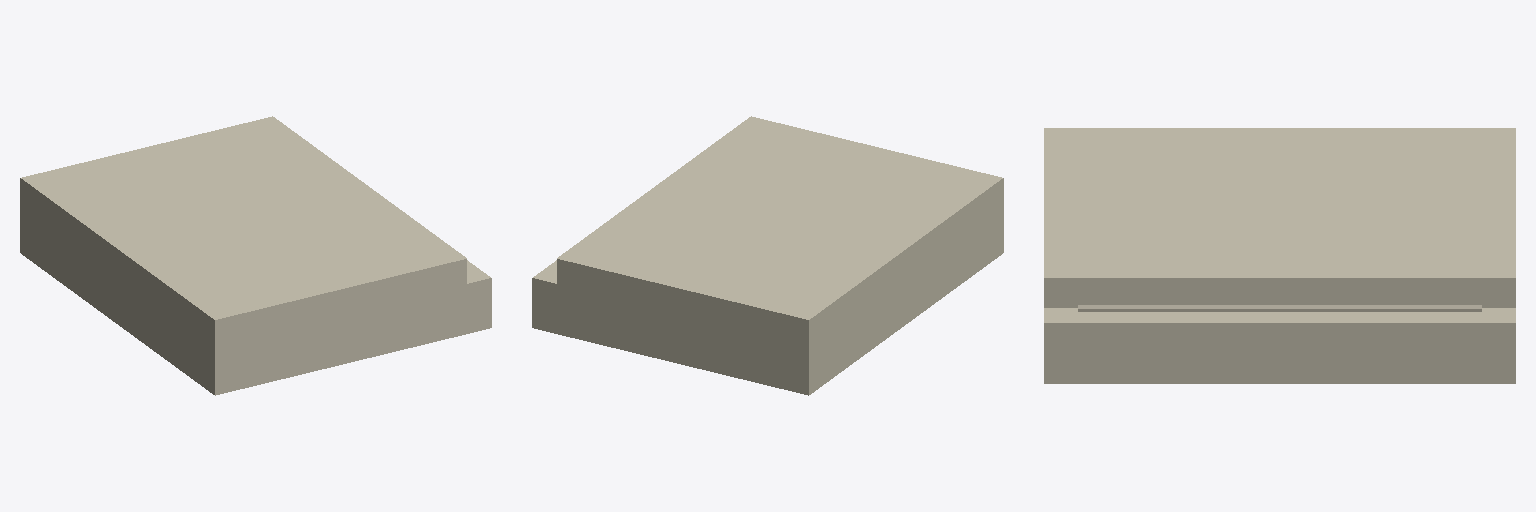
robot.urdf — laptop:
<?xml version="1.0"?>
<robot name="laptop">
  <!-- Base / keyboard part sitting on table -->
  <link name="base_link">
    <visual>
      <origin xyz="0 0 0" rpy="0 0 0"/>
      <geometry>
        <box size="0.23 0.28 0.04"/>
      </geometry>
      <material name="beige">
        <color rgba="0.82 0.80 0.73 1"/>
      </material>
    </visual>
    <visual>
      <origin xyz="0.01 0 0.021" rpy="0 0 0"/>
      <geometry>
        <box size="0.18 0.24 0.002"/>
      </geometry>
      <material name="keyboard_grey">
        <color rgba="0.75 0.73 0.67 1"/>
      </material>
    </visual>
    <collision>
      <origin xyz="0 0 0" rpy="0 0 0"/>
      <geometry>
        <box size="0.23 0.28 0.04"/>
      </geometry>
    </collision>
    <inertial>
      <origin xyz="0 0 0" rpy="0 0 0"/>
      <mass value="1.8"/>
      <inertia ixx="0.012" ixy="0" ixz="0" iyy="0.0081" iyz="0" izz="0.0197"/>
    </inertial>
  </link>

  <!-- Lid / display part -->
  <link name="lid_link">
    <visual>
      <origin xyz="0.105 0 0" rpy="0 0 0"/>
      <geometry>
        <box size="0.21 0.28 0.02"/>
      </geometry>
      <material name="beige_lid">
        <color rgba="0.82 0.80 0.73 1"/>
      </material>
    </visual>
    <visual>
      <origin xyz="0.105 0 -0.011" rpy="0 0 0"/>
      <geometry>
        <box size="0.18 0.24 0.002"/>
      </geometry>
      <material name="screen_black">
        <color rgba="0.02 0.02 0.02 1"/>
      </material>
    </visual>
    <collision>
      <origin xyz="0.105 0 0" rpy="0 0 0"/>
      <geometry>
        <box size="0.21 0.28 0.02"/>
      </geometry>
    </collision>
    <inertial>
      <origin xyz="0.105 0 0" rpy="0 0 0"/>
      <mass value="0.7"/>
      <inertia ixx="0.0046" ixy="0" ixz="0" iyy="0.0026" iyz="0" izz="0.0071"/>
    </inertial>
  </link>

  <!-- Hinge at rear edge of base. 0 = closed flat, ~1.57 = open vertical -->
  <joint name="lid_hinge" type="revolute">
    <parent link="base_link"/>
    <child link="lid_link"/>
    <origin xyz="-0.115 0 0.03" rpy="0 0 0"/>
    <axis xyz="0 -1 0"/>
    <limit lower="0" upper="1.75" effort="10" velocity="5"/>
    <dynamics damping="0.1" friction="0.2"/>
  </joint>
</robot>

--- What the picture shows (computed from the rendered views, not written in the file) ---
The picture shows the robot from 3 angles, left to right: view 1: azimuth 30°, elevation 25°; view 2: azimuth 150°, elevation 25°; view 3: azimuth 270°, elevation 25°; orthographic projection.
Robot: laptop — 2 links, 1 joints (1 revolute); root link base_link; default pose: every joint at zero.
Links seen in each view (by area): view 1: lid_link, base_link; view 2: lid_link, base_link; view 3: lid_link, base_link.
Boxes of the visible links, x1,y1,x2,y2 form: lid_link: [20, 116, 466, 344]; base_link: [20, 203, 491, 395]; lid_link: [557, 116, 1003, 344]; base_link: [532, 203, 1003, 395]; lid_link: [1044, 128, 1515, 307]; base_link: [1044, 305, 1515, 383].
Bounding box of the posed robot: 0.23 × 0.28 × 0.06 m (x, y, z).
Geometry: primitives only (box / cylinder / sphere), no mesh files.
